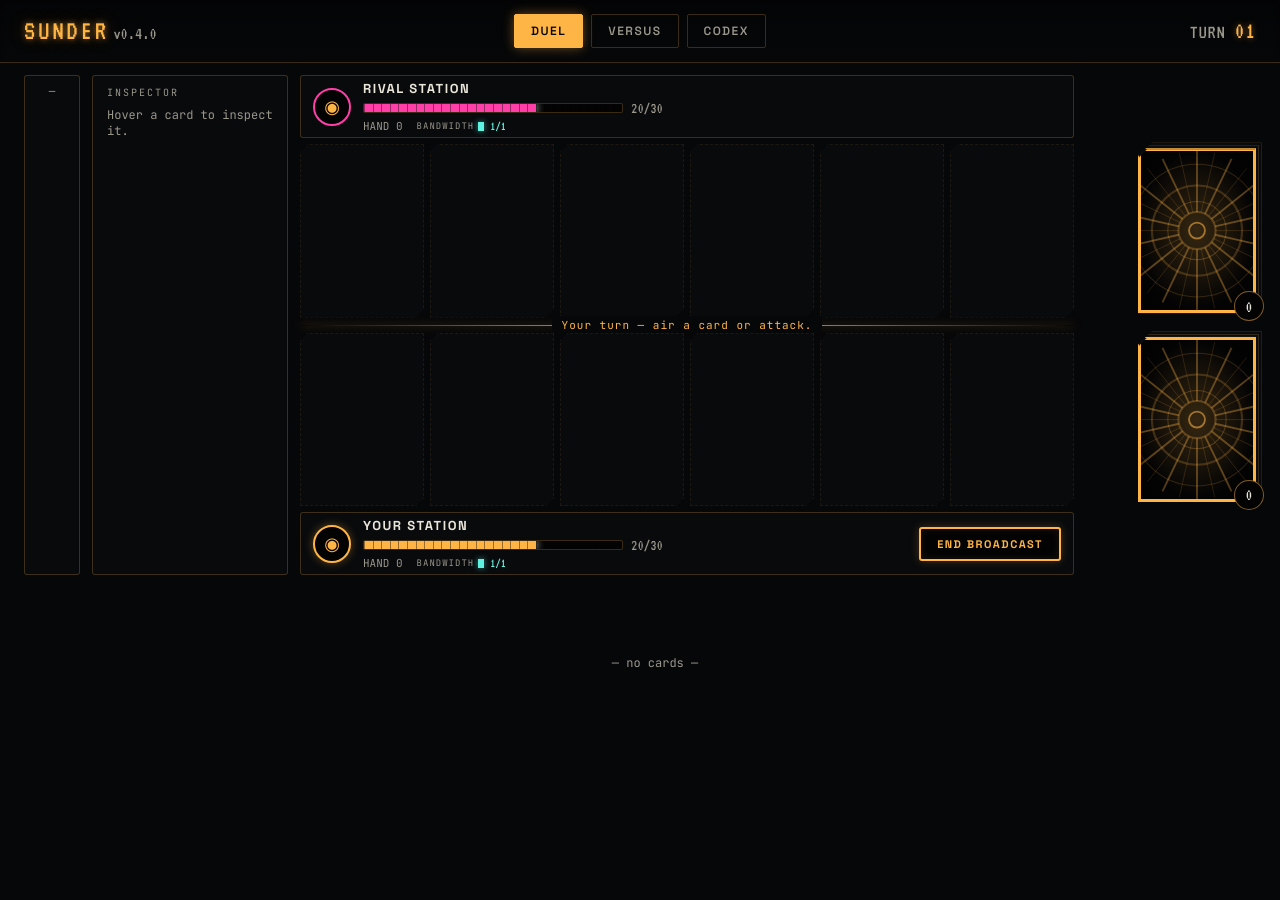
it: App › opens the codex view with the c key
Press c
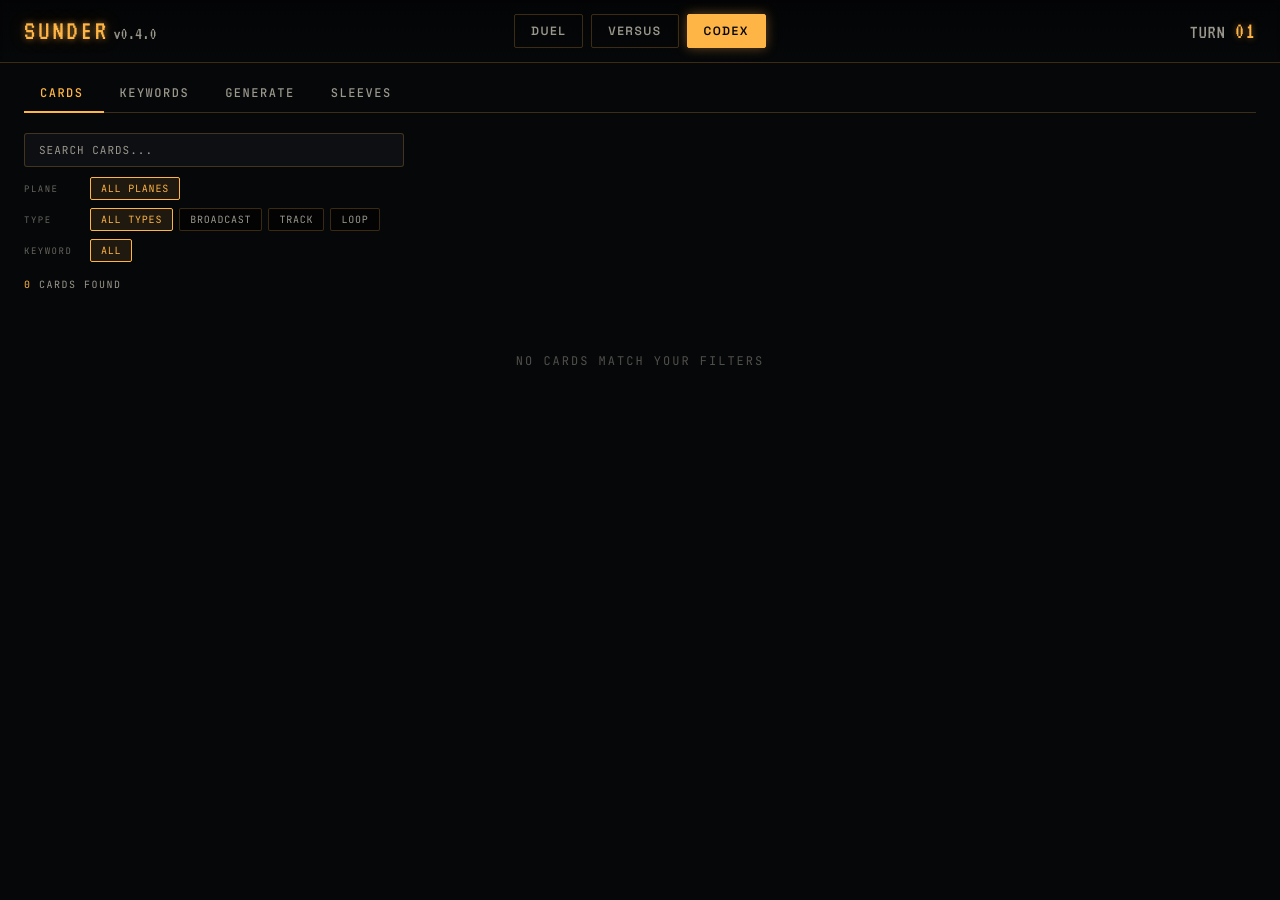
Expected: the button "CARDS" is shown, left=24, top=75, right=104, bottom=113
Click the button "DUEL" at x=549, y=31, box left=514, top=14, right=583, bottom=48
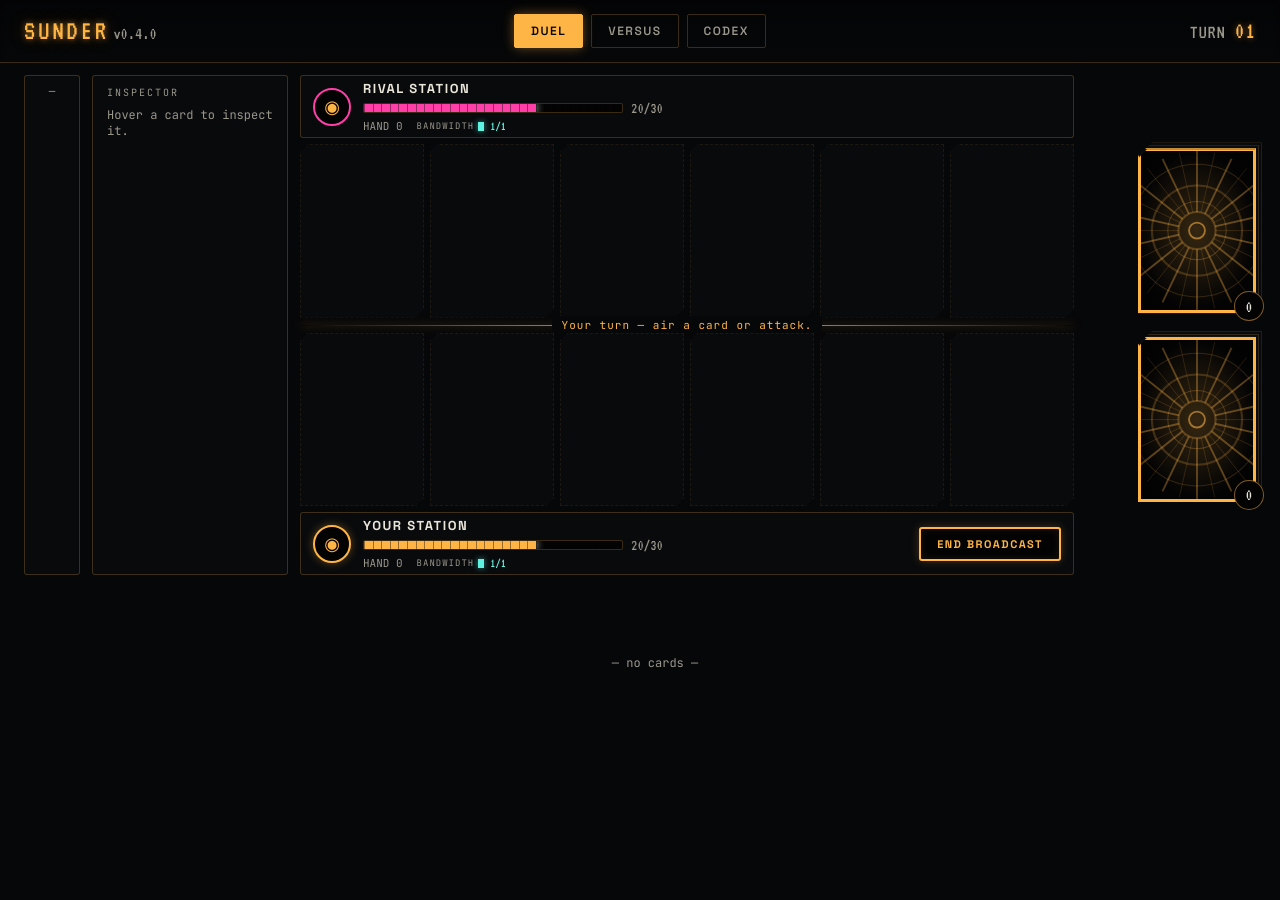
Expected: the text "Your turn — air a card or attack." is shown, left=552, top=316, right=822, bottom=334
